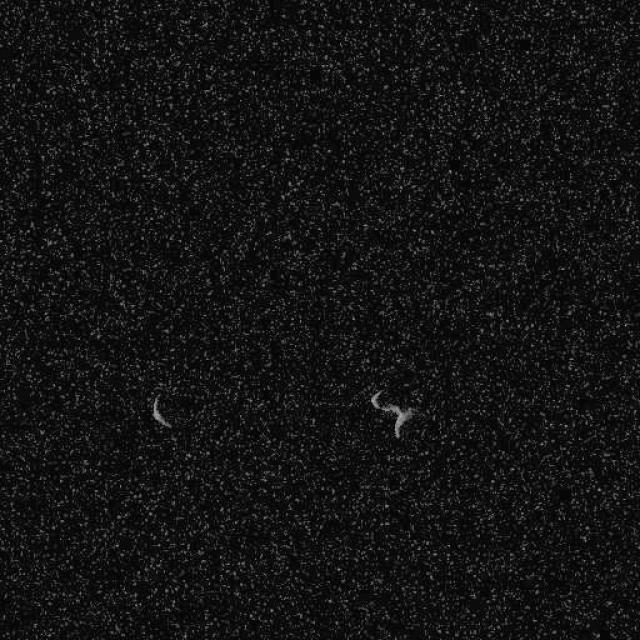D2: (369, 388, 415, 438), (150, 394, 172, 430)
